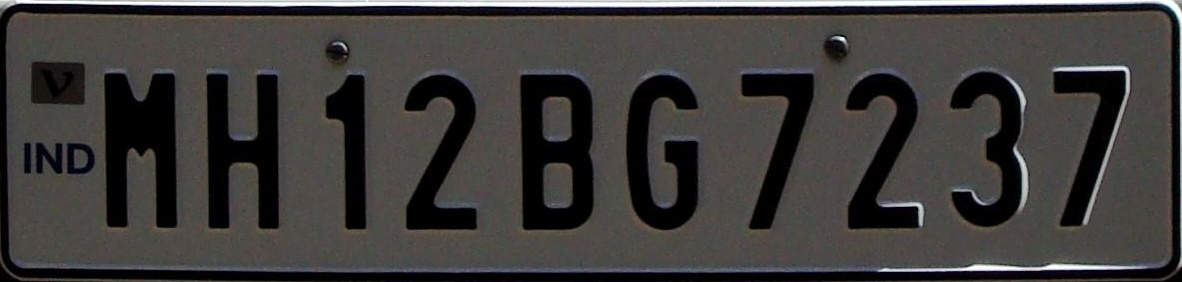character: (99, 59, 180, 233), (1048, 61, 1129, 231), (203, 63, 282, 235), (397, 74, 482, 233), (514, 67, 595, 233), (844, 71, 925, 233), (737, 67, 816, 233), (946, 71, 1027, 227), (625, 69, 699, 231), (320, 67, 371, 237)
